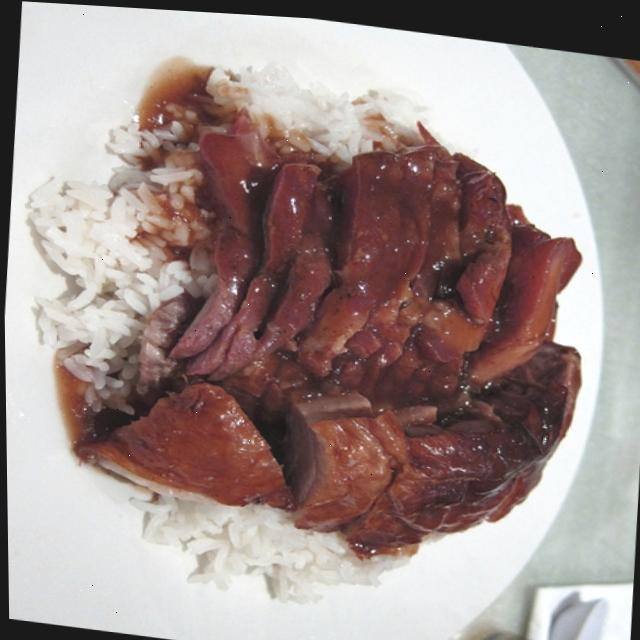米饭主食: (1, 49, 575, 602)
